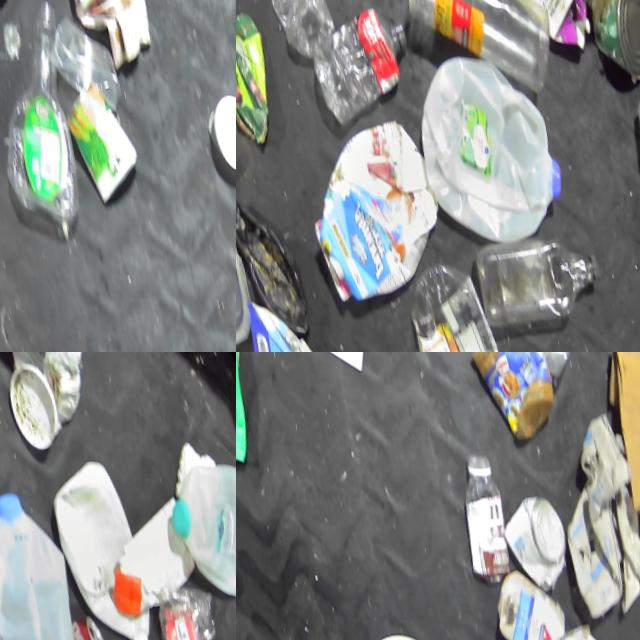can: (522, 0, 640, 109), (58, 75, 148, 212), (496, 494, 573, 593), (47, 609, 109, 640)
milk_jug: (399, 27, 573, 248), (47, 452, 153, 640), (0, 477, 84, 640), (163, 447, 236, 609)
plastic_bottle: (301, 0, 425, 133), (397, 240, 524, 352), (244, 0, 332, 75)
